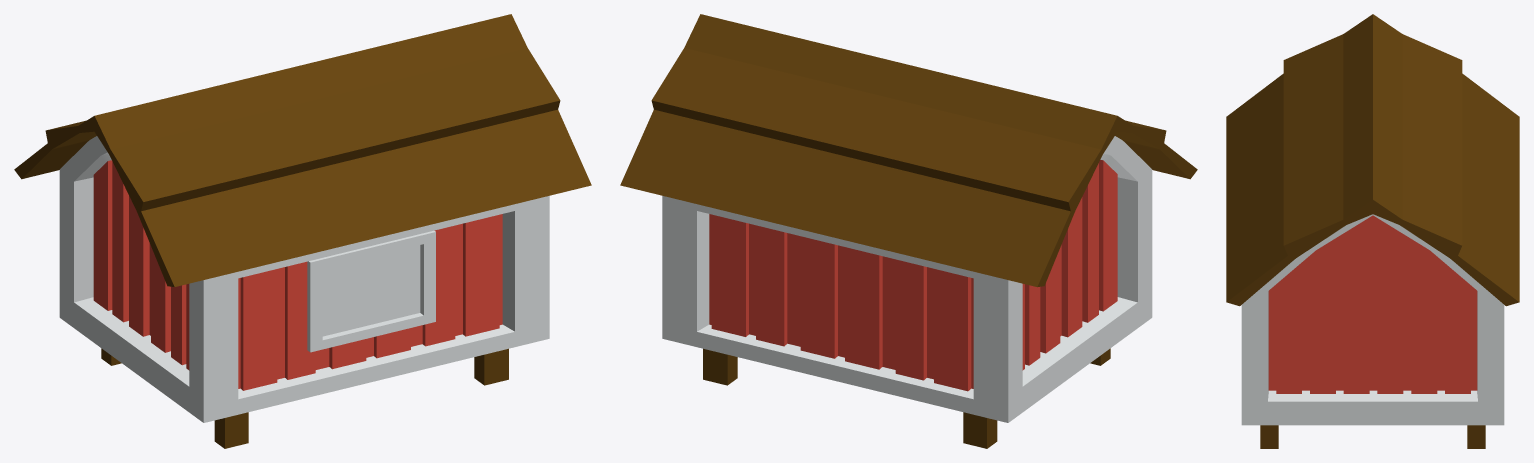
File: chicken_coop.glb
3 renders of one model, left to right at view 1: azimuth 30°, elevation 25°; view 2: azimuth 150°, elevation 25°; view 3: azimuth 270°, elevation 25°, orthographic. The views are drawn at different scales.
Parts seen in each view (by area): view 1: chicken_coop; view 2: chicken_coop; view 3: chicken_coop.
Part boxes in pixels (box(x1,y1,x2,y2)): chicken_coop: box(14, 14, 591, 448); chicken_coop: box(620, 14, 1197, 448); chicken_coop: box(1226, 14, 1519, 448).
Bounding box in the file's own units: 2.65 × 1.85 × 1.77.
1 material, 1 textured.
